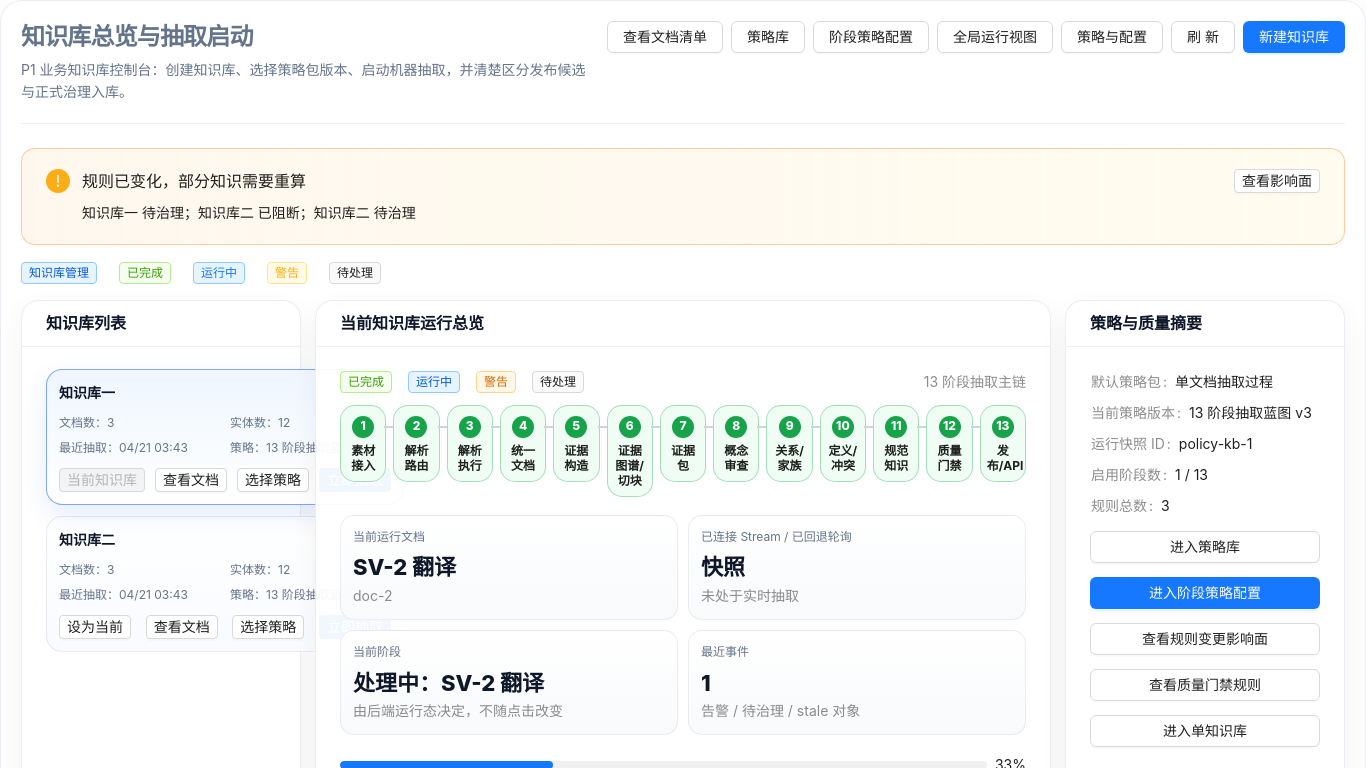
it: enters single archive and single document views with runtime stream data
Click the button "进入单知识库".
click(1205, 731)  # box [1090,715,1320,747]
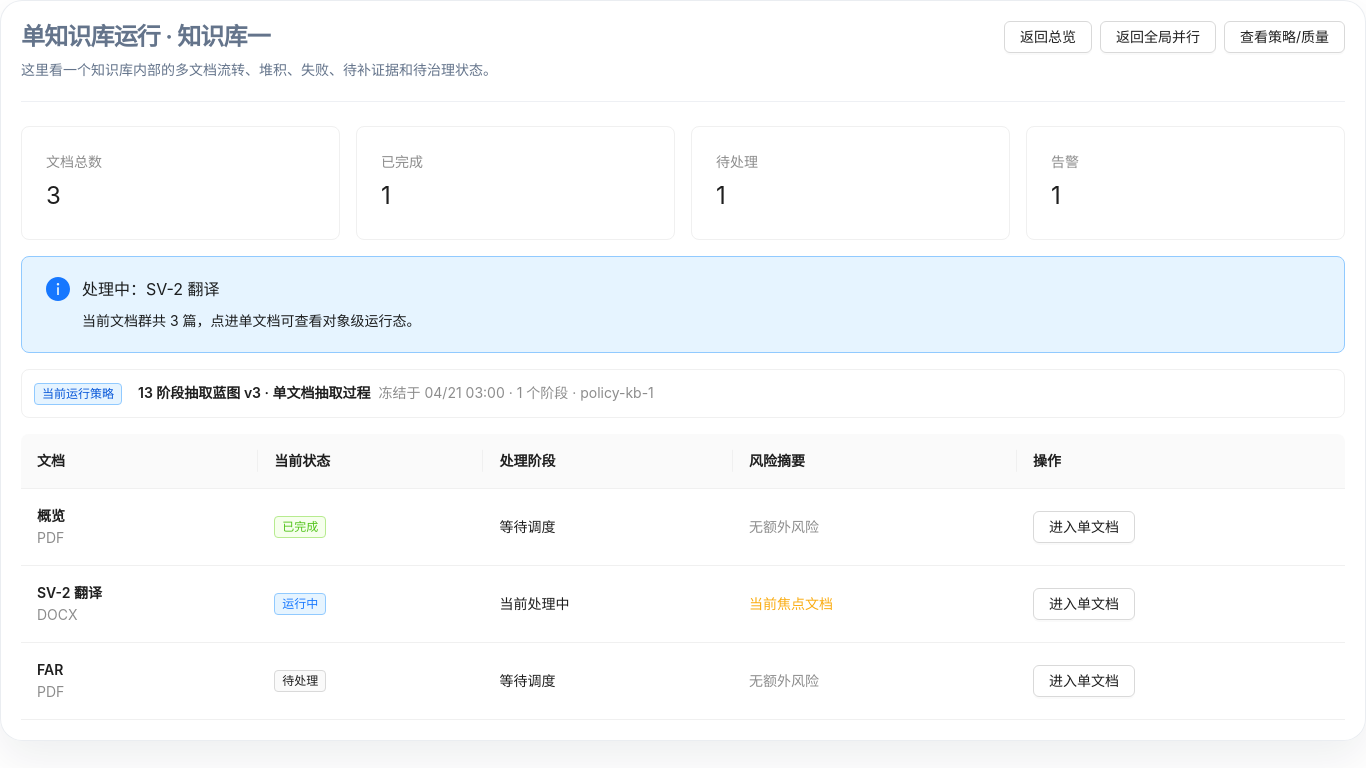
Now the heading "单知识库运行 · 知识库一" is shown, box [21,22,270,51]
Now the text "当前运行策略" is shown, box [34,383,122,405]
Now the text "13 阶段抽取蓝图 v3 · 单文档抽取过程" is shown, box [138,384,370,401]
Click the button "进入单文档" in the row of "概览".
click(1084, 527)  # box [1033,511,1135,543]
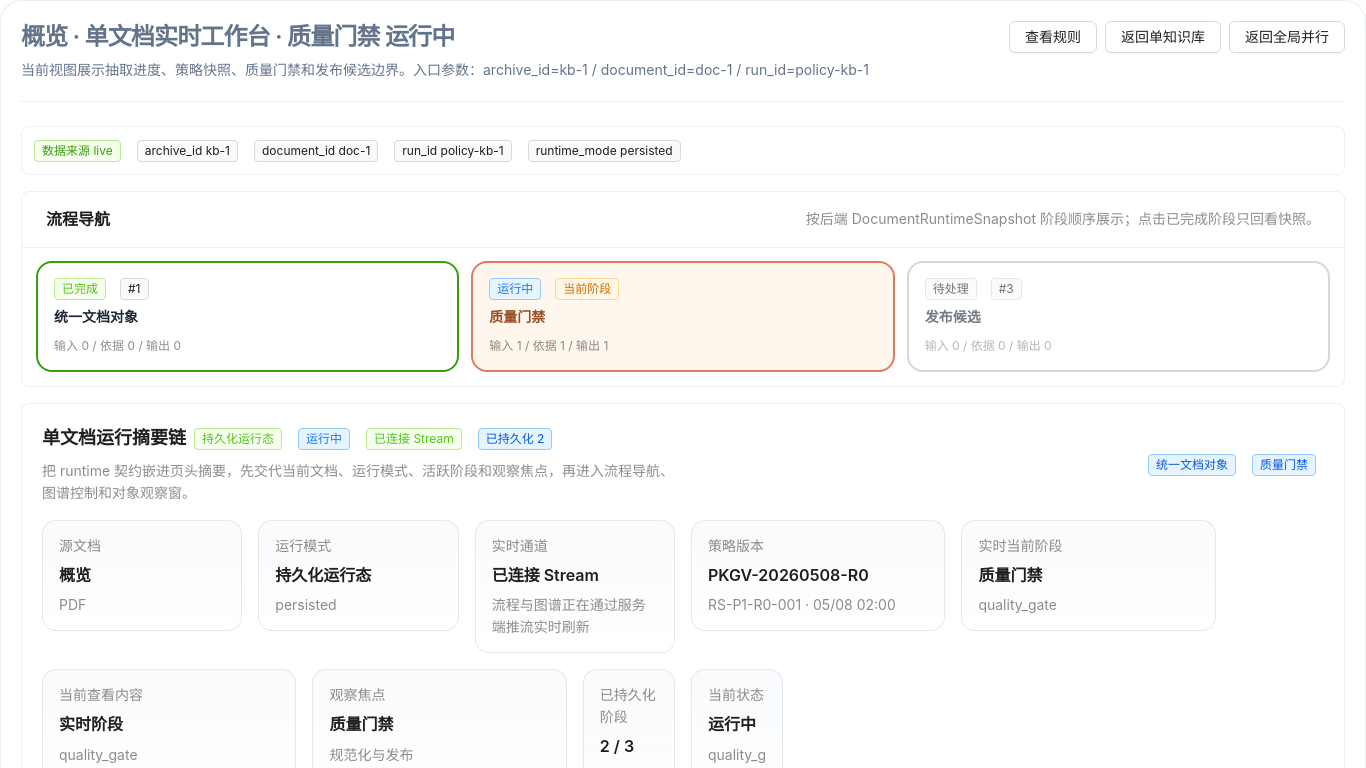
Now the heading "概览 · 单文档实时工作台 · 质量门禁 运行中" is shown, box [21,22,454,51]
Now the text "已连接 Stream" in the row of "单文档运行摘要链" is shown, box [374,431,454,446]
Now the 1st text "质量门禁" is shown, box [489,308,545,325]
